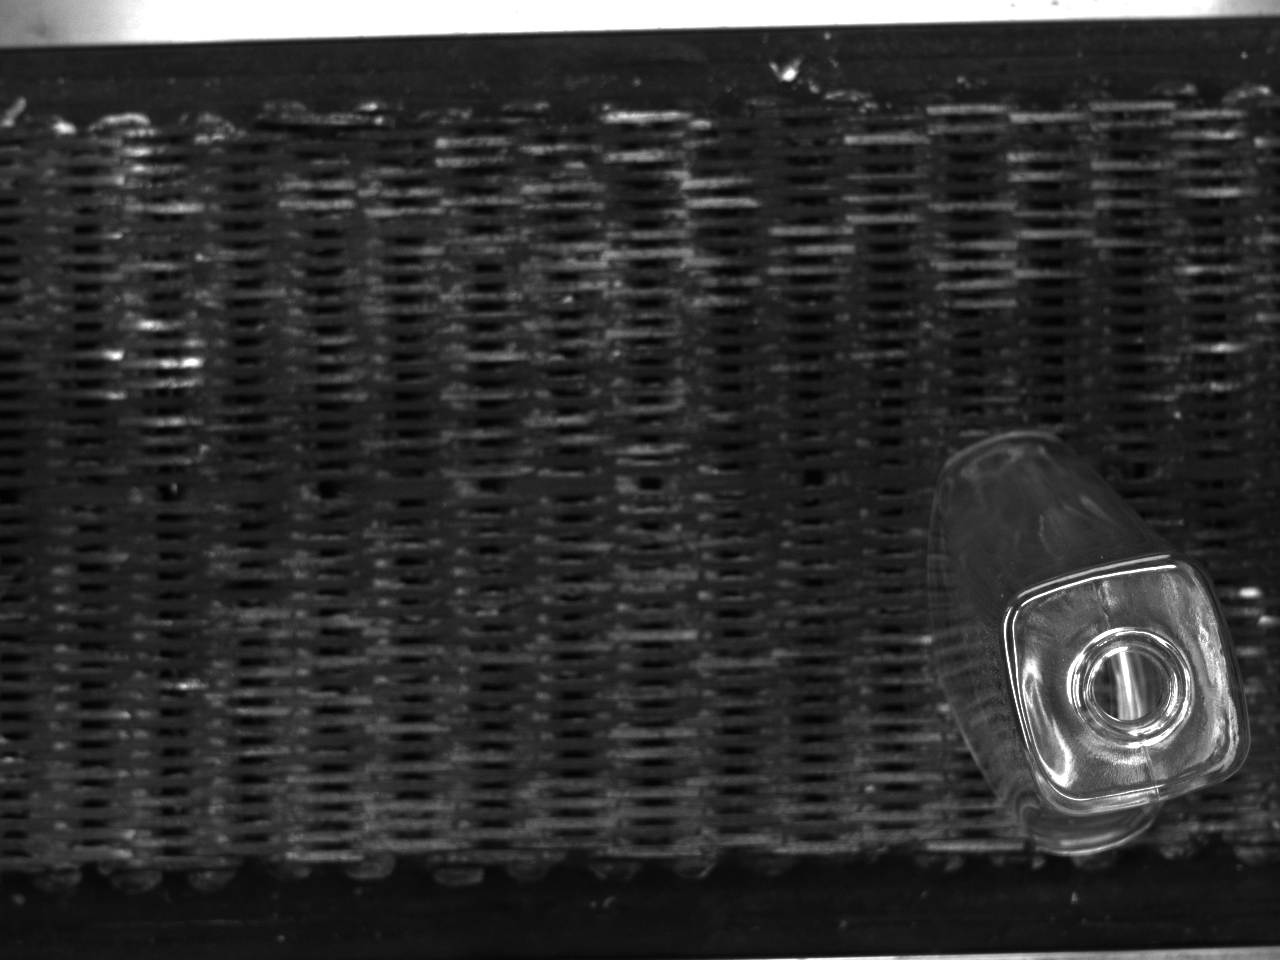bottleneck: (1076, 628, 1192, 741)
